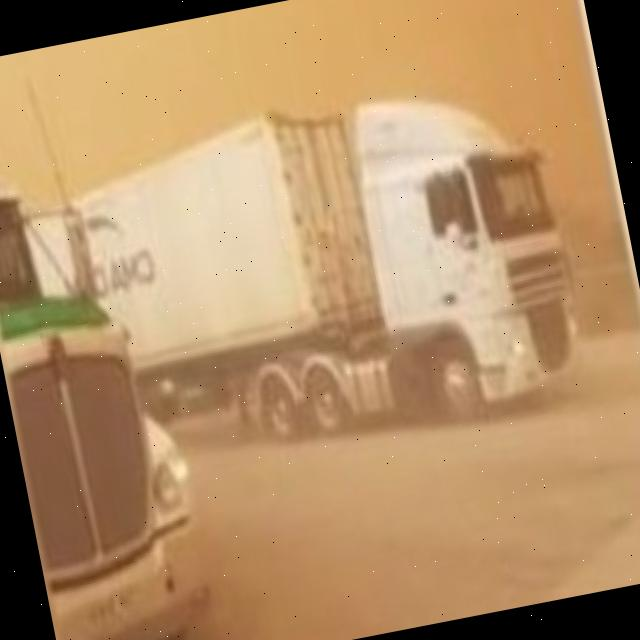bus: (4, 50, 598, 497), (0, 129, 227, 640)
